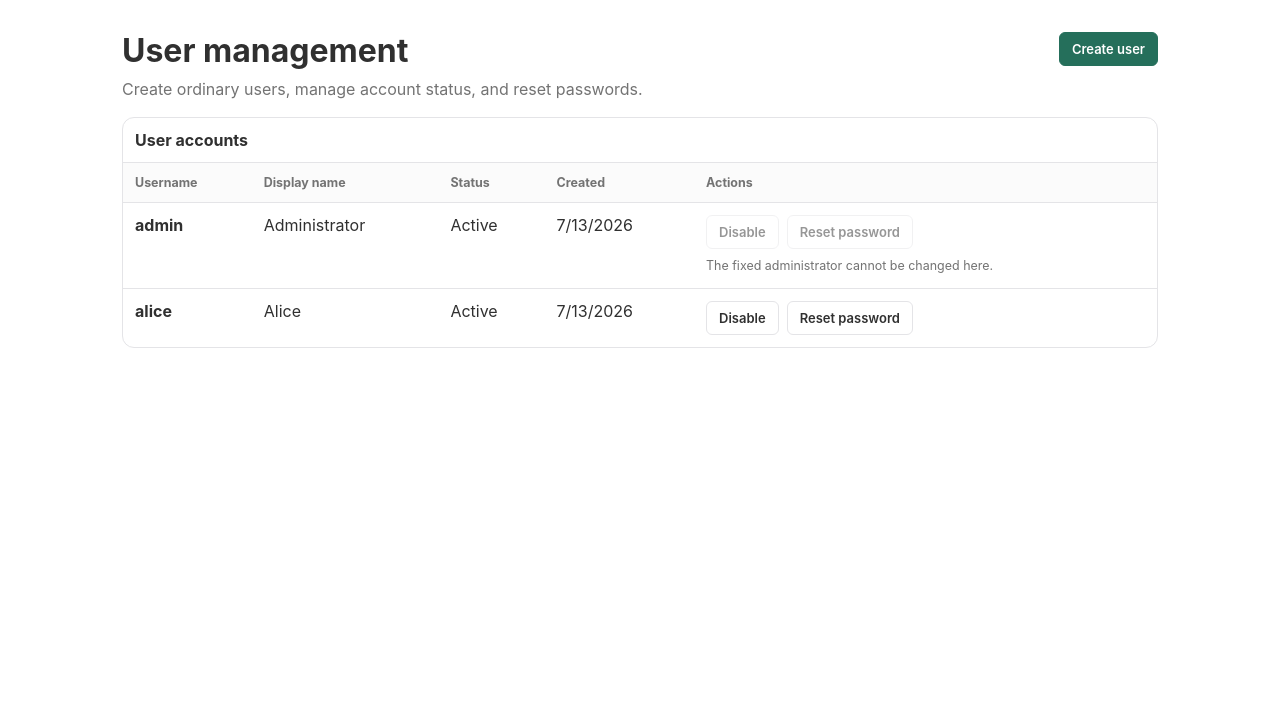
Test: AdminUserManagementPage › rejects short username deterministically and clears the secret
Click the button "Create user": (1108, 49) [1059, 32, 1158, 66]
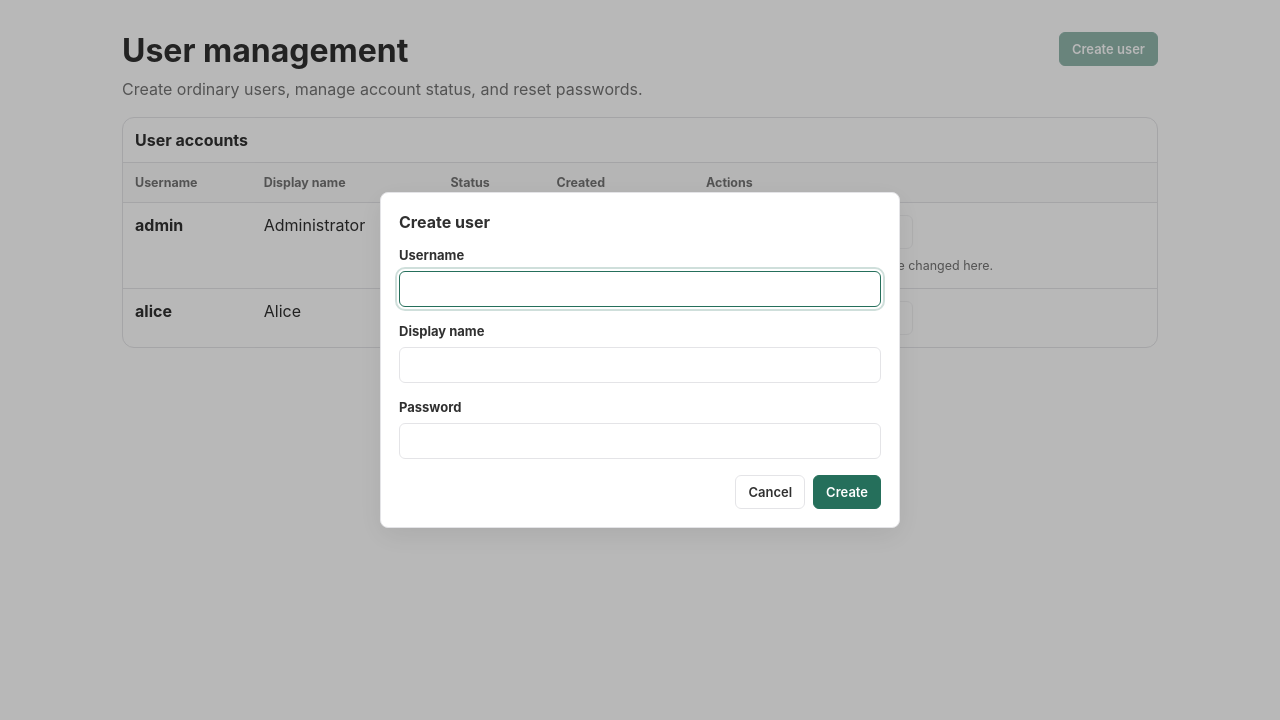
In the field labelled "Username": (640, 289) [399, 271, 881, 307], type "ab"
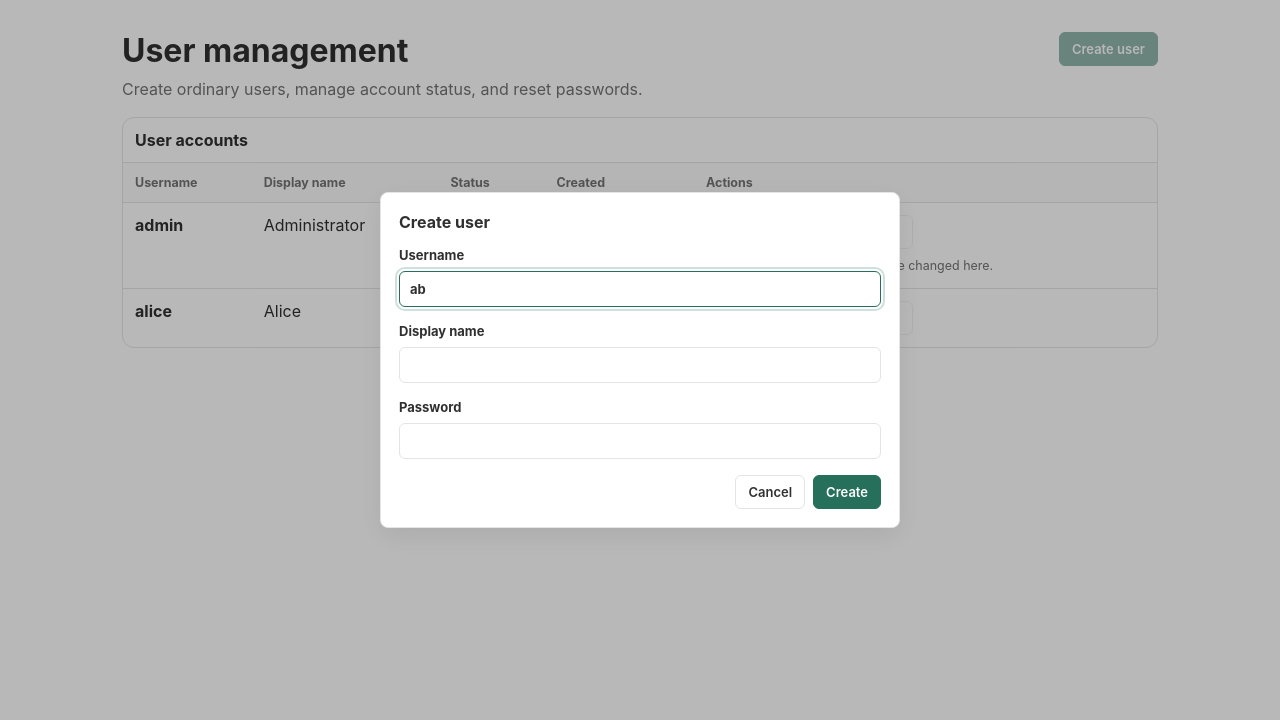
In the field labelled "Display name": (640, 365) [399, 347, 881, 383], type "Reader"
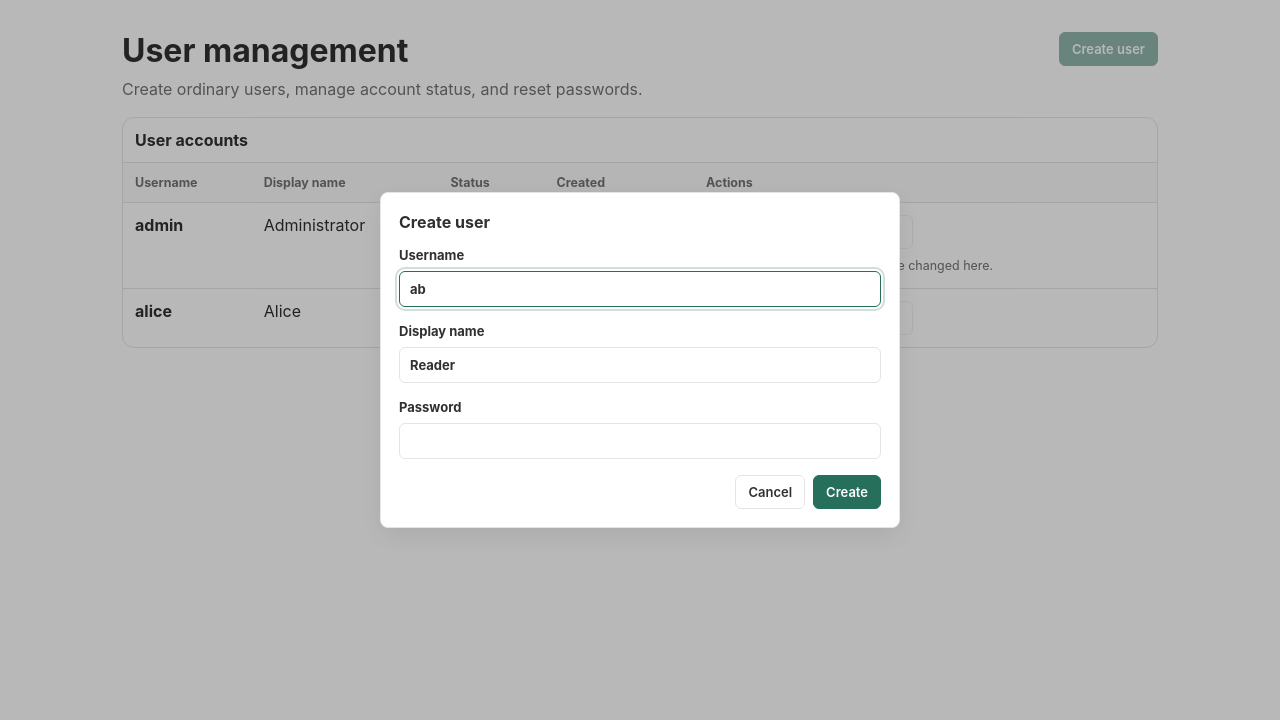
In the password field labelled "Password": (640, 441) [399, 423, 881, 459], type "valid-password"
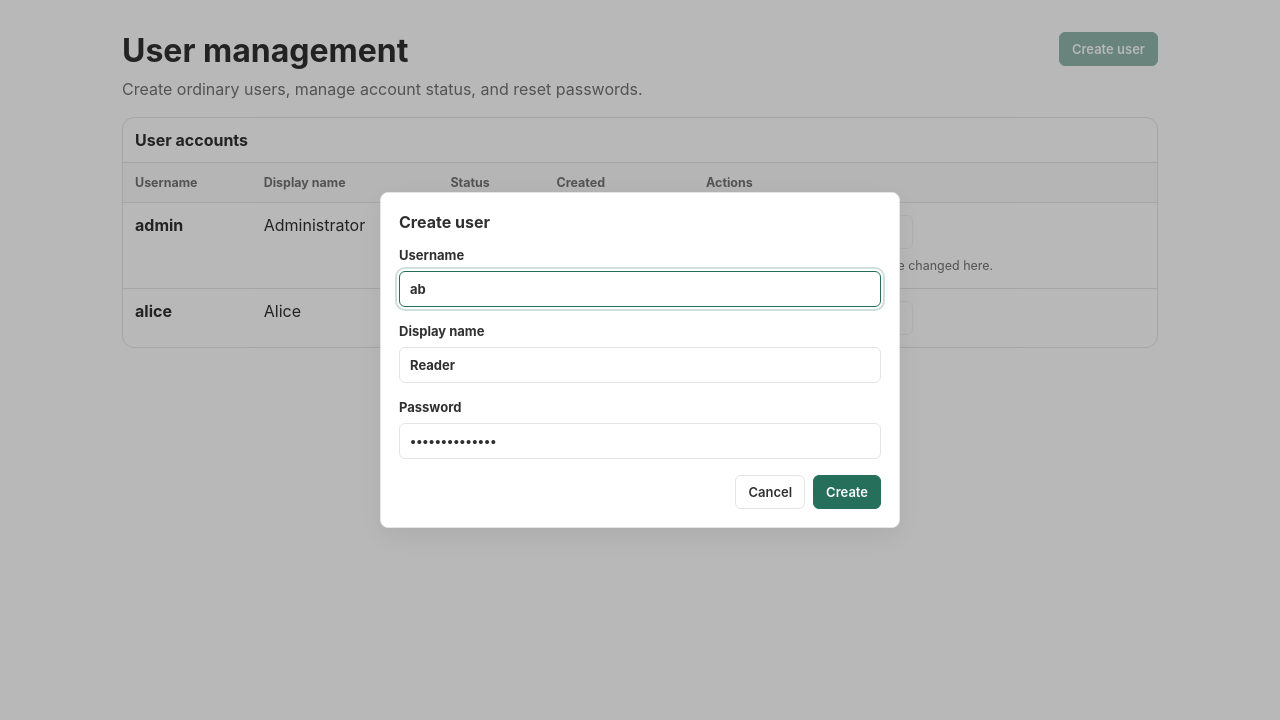
Click the button "Create": (847, 492) [813, 475, 881, 509]
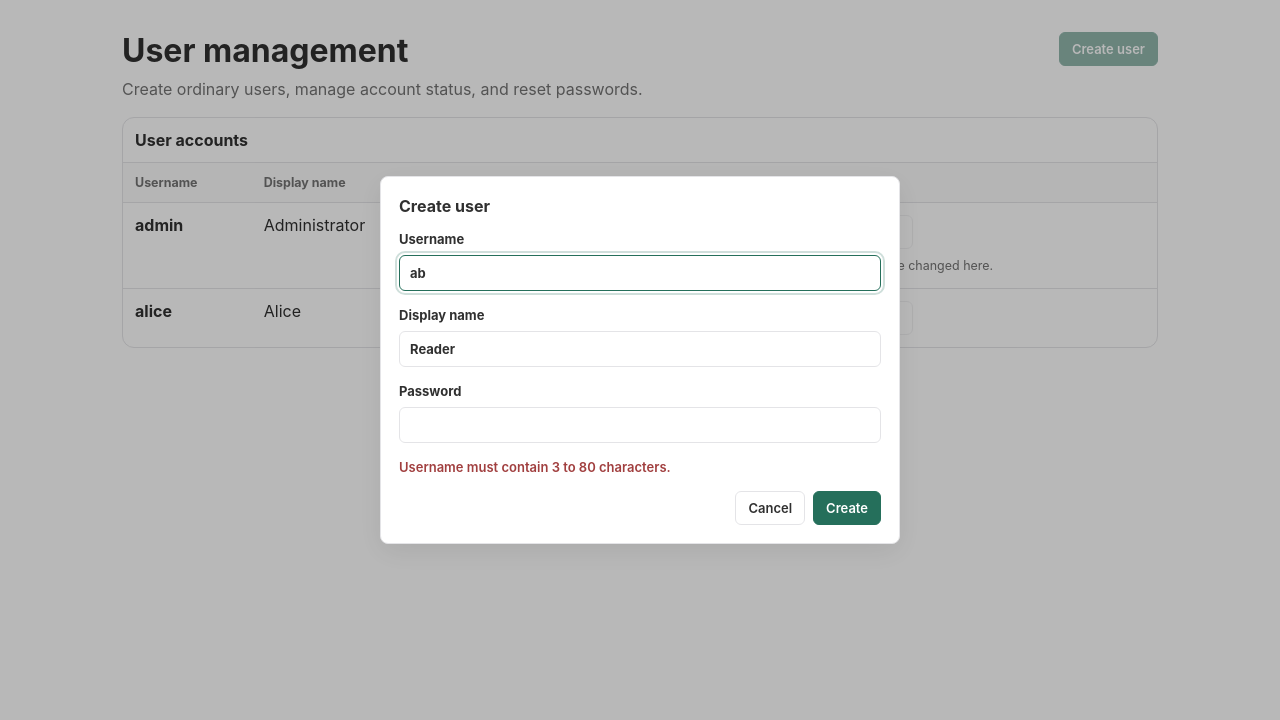
Expected: the message reads "Username must contain 3 to 80 characters.", [399, 459, 671, 475]
Expected: the password field labelled "Password" is empty, [399, 407, 881, 443]
